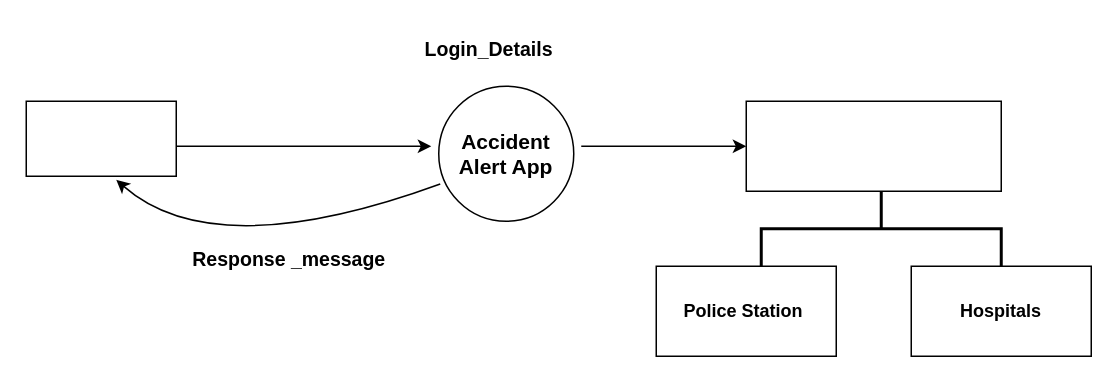
Some shapes in this 1118 by 383 pixel diagram are drawn without their labels. The box of each missing label's shape, as (x1, y1, x2, y2) in pixels:
Driver: (25, 100, 176, 176)
Emergency Services: (745, 100, 1001, 191)
